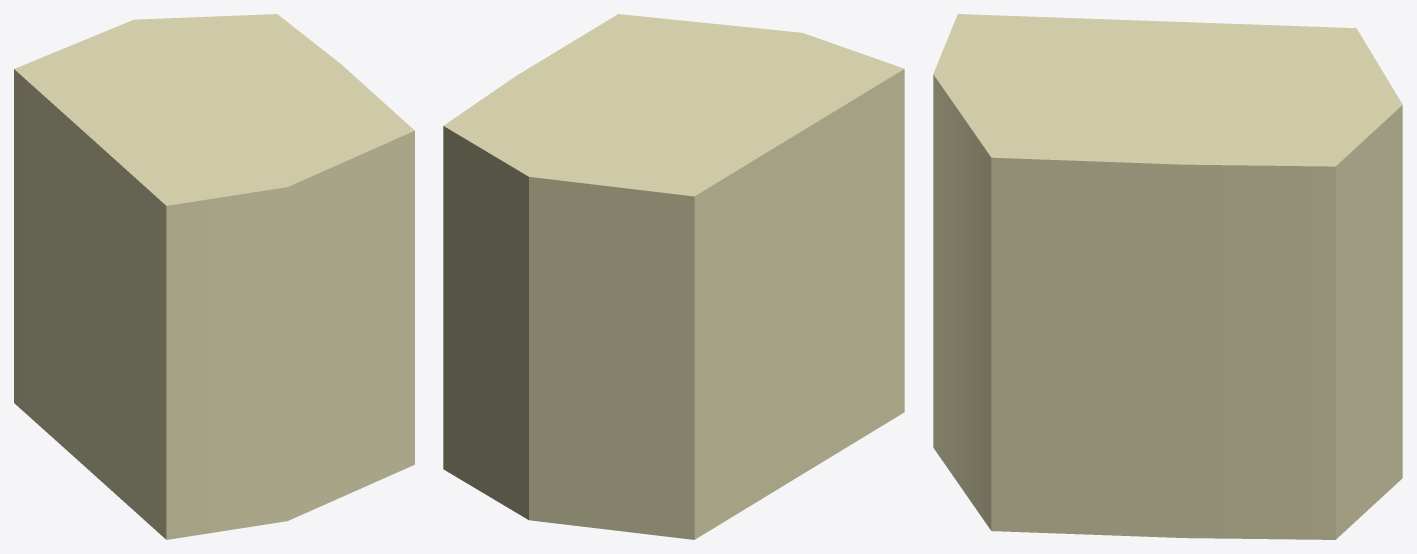
File: taipei.glb
3 views of the same model, side by side, from view 1: azimuth 30°, elevation 25°; view 2: azimuth 150°, elevation 25°; view 3: azimuth 270°, elevation 25° (orthographic). The views are drawn at different scales.
Visible parts, largest first — view 1: Taipei_geo map_geo; view 2: Taipei_geo map_geo; view 3: Taipei_geo map_geo.
Boxes of the visible parts, x1=… form: Taipei_geo map_geo: x1=14, y1=14, x2=414, y2=539; Taipei_geo map_geo: x1=443, y1=14, x2=904, y2=539; Taipei_geo map_geo: x1=933, y1=14, x2=1402, y2=539.
Size of the model in its own units: 0.2437 by 0.2781 by 0.3169.
1 material, 1 textured.
